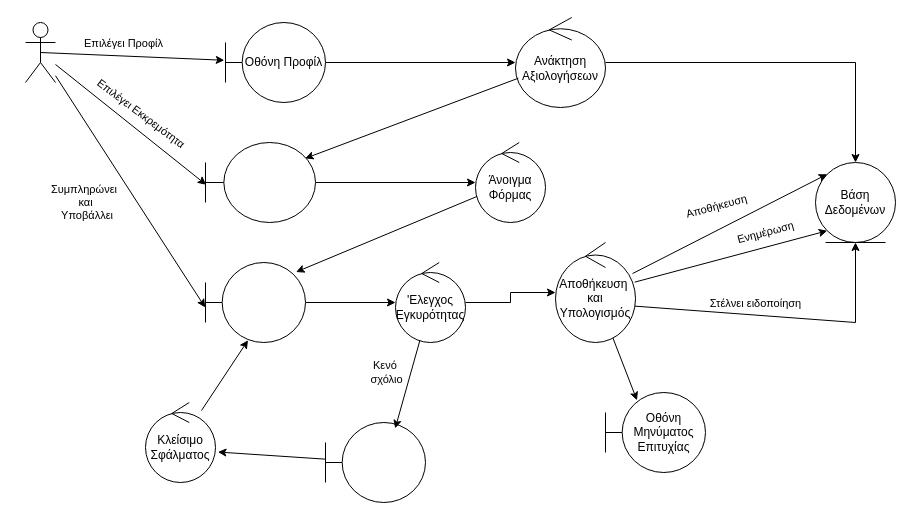
This 913x520 diagram has some shape labels left out. Each missing label, with the box of its shape:
Οθόνη Εκκρεμών Αξιολογήσεων: (204, 142, 316, 222)
Οθόνη Σφάλματος Φόρμας: (324, 422, 426, 502)
Οθόνη Φόρμας Αξιολόγησης: (204, 262, 306, 342)
Χρήστης: (24, 22, 56, 82)
